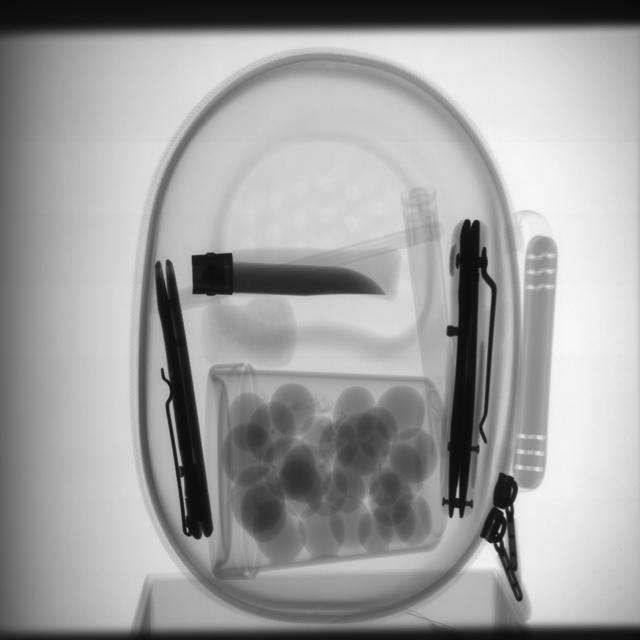knife: (191, 242, 395, 309)
